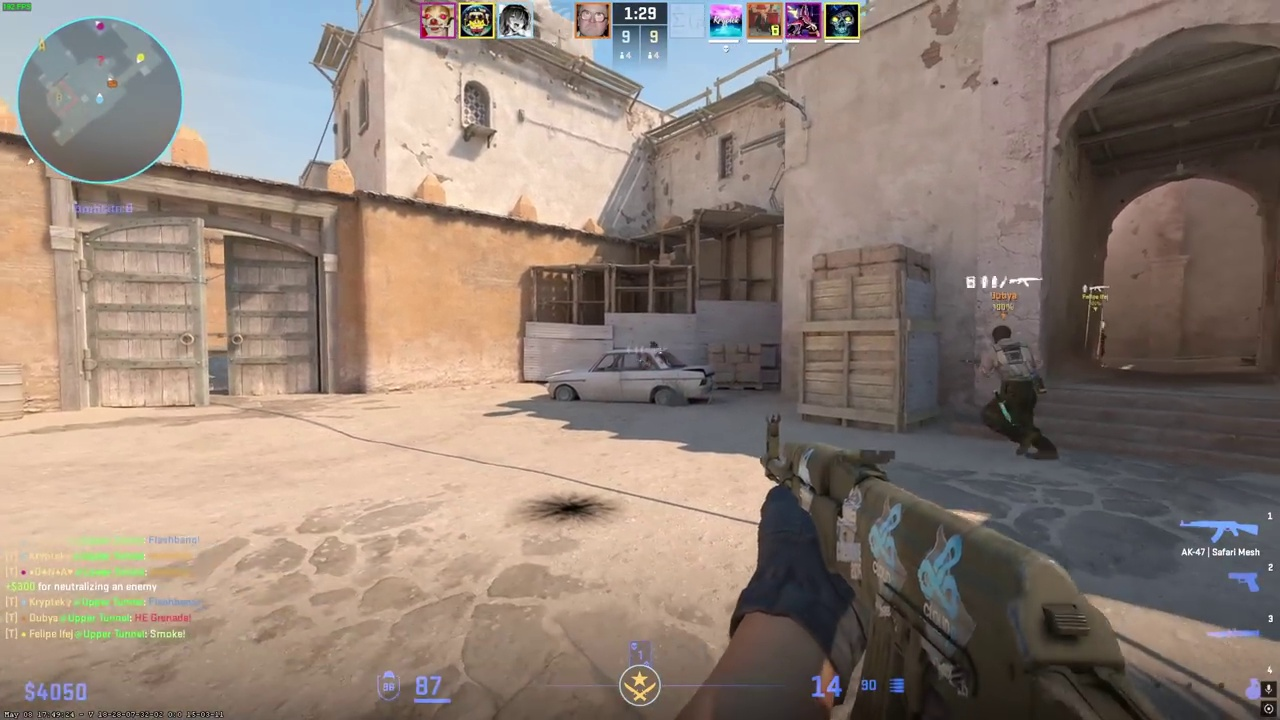Terrorist: (975, 323, 1054, 462)
